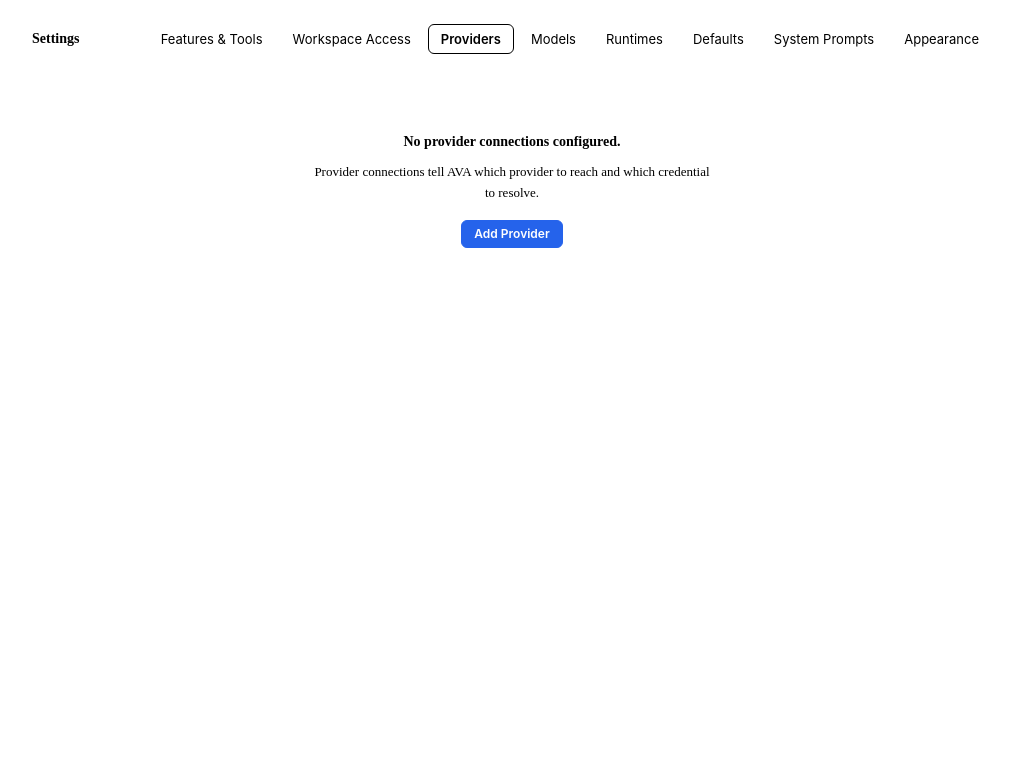
Test: Runtimes inventory actions › adds no provider, model, or credential field to the domain
The image size is (1024, 768).
Expected: the element with test id "settings-workspace" is shown, [8, 8, 1016, 312]
Click the tab "Runtimes".
click(634, 39)  # box [593, 24, 676, 54]
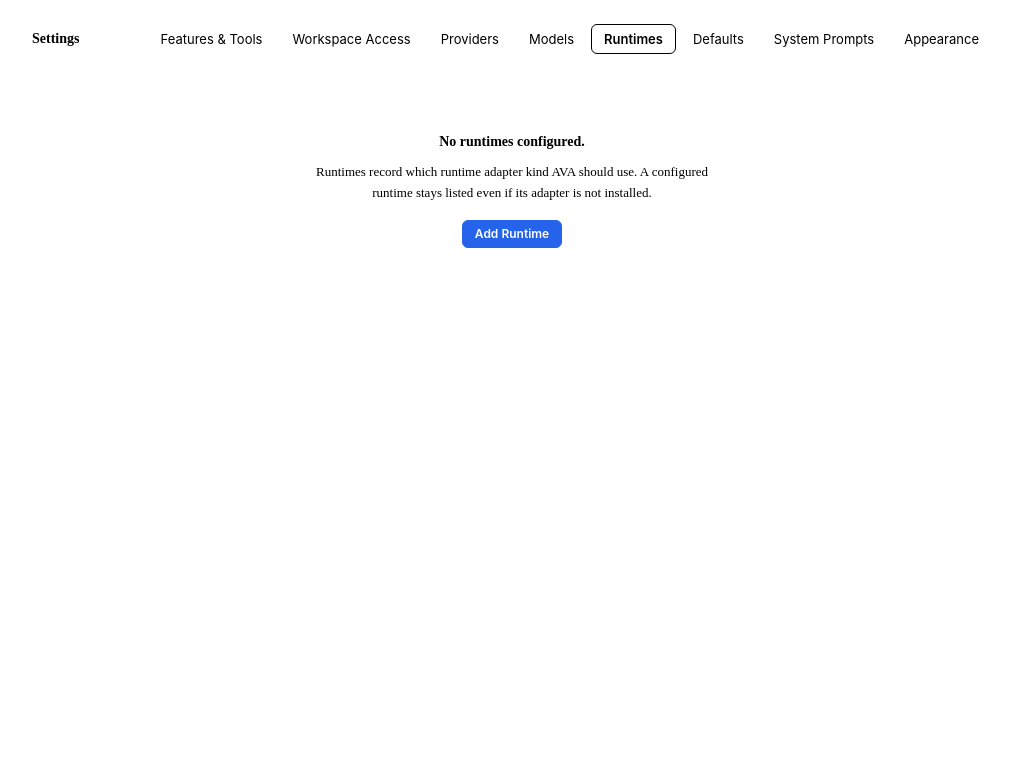
Click the button "Add Runtime".
click(512, 234)  # box [462, 220, 562, 248]
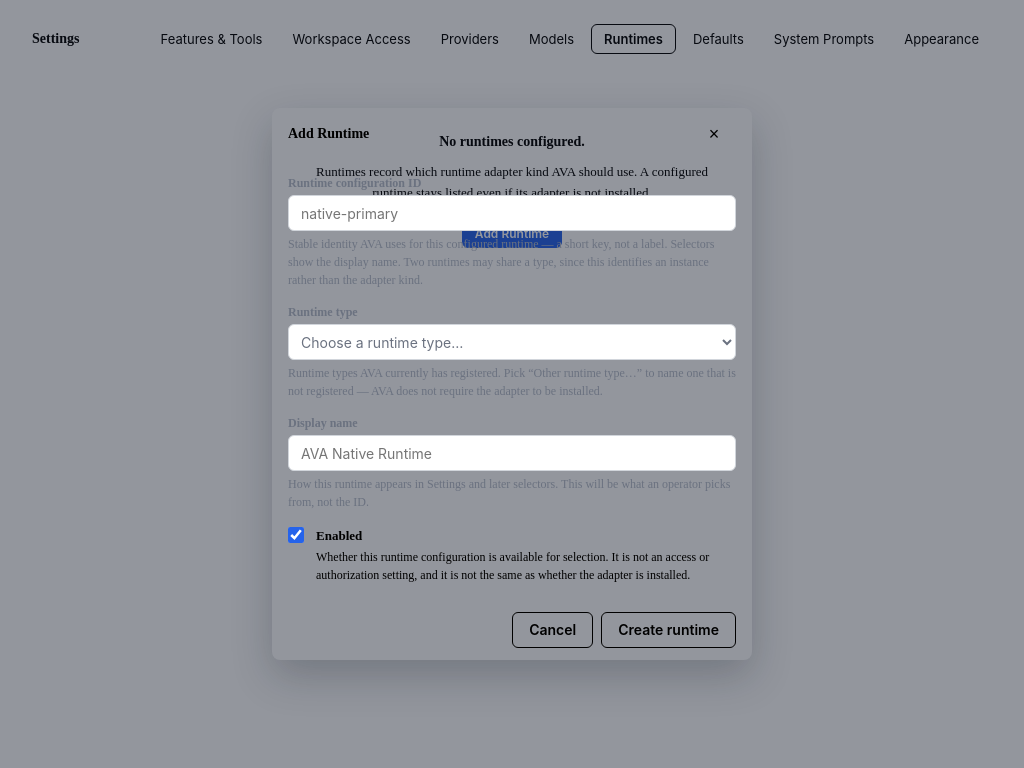
Expected: the heading labelled "provider connection" is not shown
Expected: the dialog is shown, [272, 108, 752, 660]
